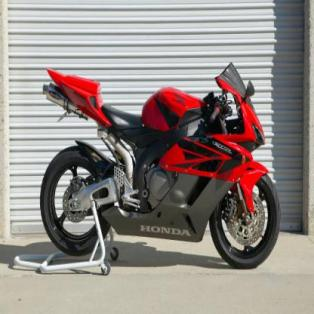Motocicleta: (36, 56, 282, 270)
